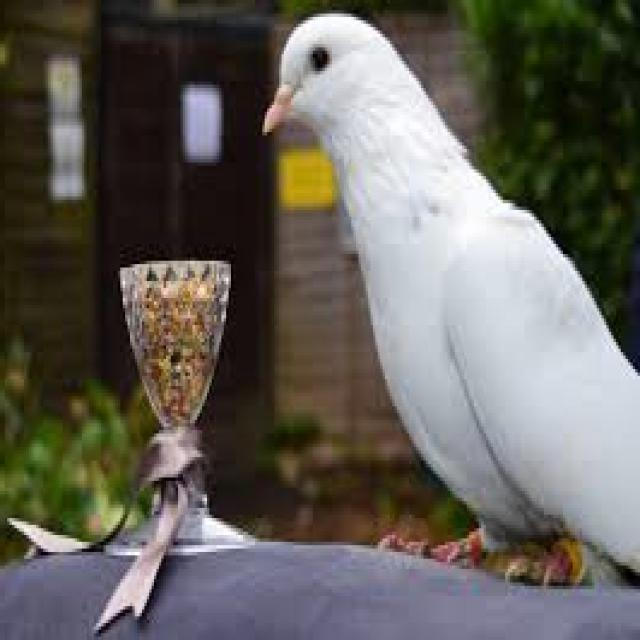pigeon: (265, 14, 640, 582)
